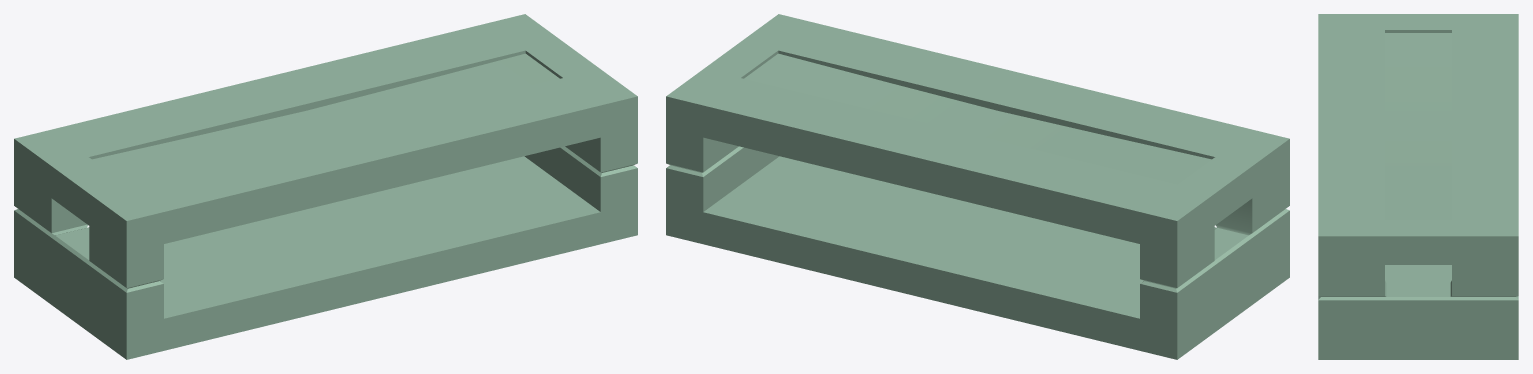
File: Coffee_Table.FBX
The picture shows the model from 3 angles, left to right: view 1: azimuth 30°, elevation 25°; view 2: azimuth 150°, elevation 25°; view 3: azimuth 270°, elevation 25°; orthographic projection. The views are drawn at different scales.
Visible parts, largest first — view 1: Coffee_Table; view 2: Coffee_Table; view 3: Coffee_Table.
Part boxes in pixels (box(x1,y1,x2,y2)): Coffee_Table: box(14, 14, 637, 359); Coffee_Table: box(666, 14, 1289, 359); Coffee_Table: box(1318, 14, 1518, 359).
Size of the model in its own units: 2.89 by 0.7502 by 1.1.
